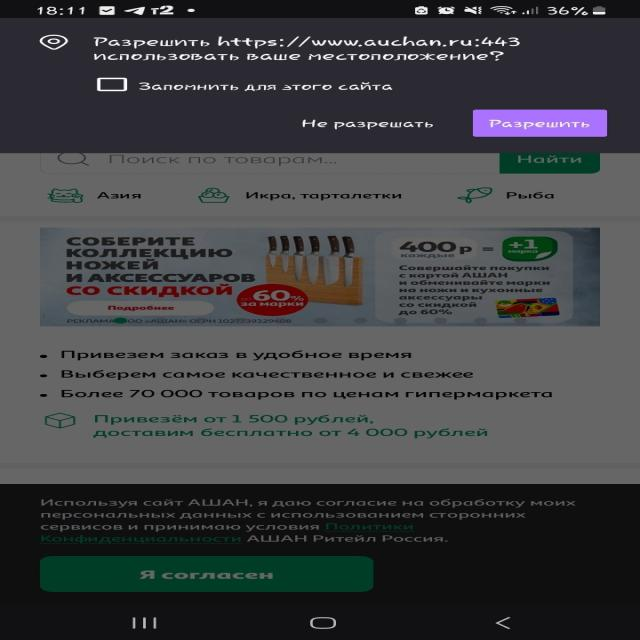button: (35, 554, 378, 593), (291, 112, 440, 137), (478, 111, 609, 137)
site: (0, 485, 640, 600)
system: (0, 18, 640, 150)
